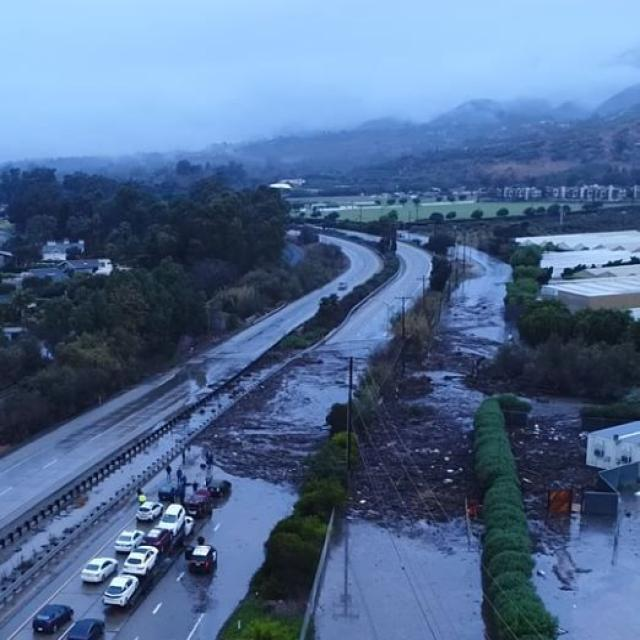traffic_incident: (193, 318, 562, 524)
